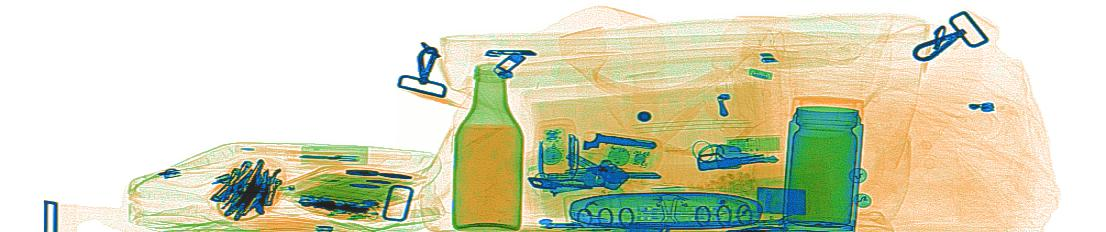USBFlashDisk: (722, 132, 784, 155)
